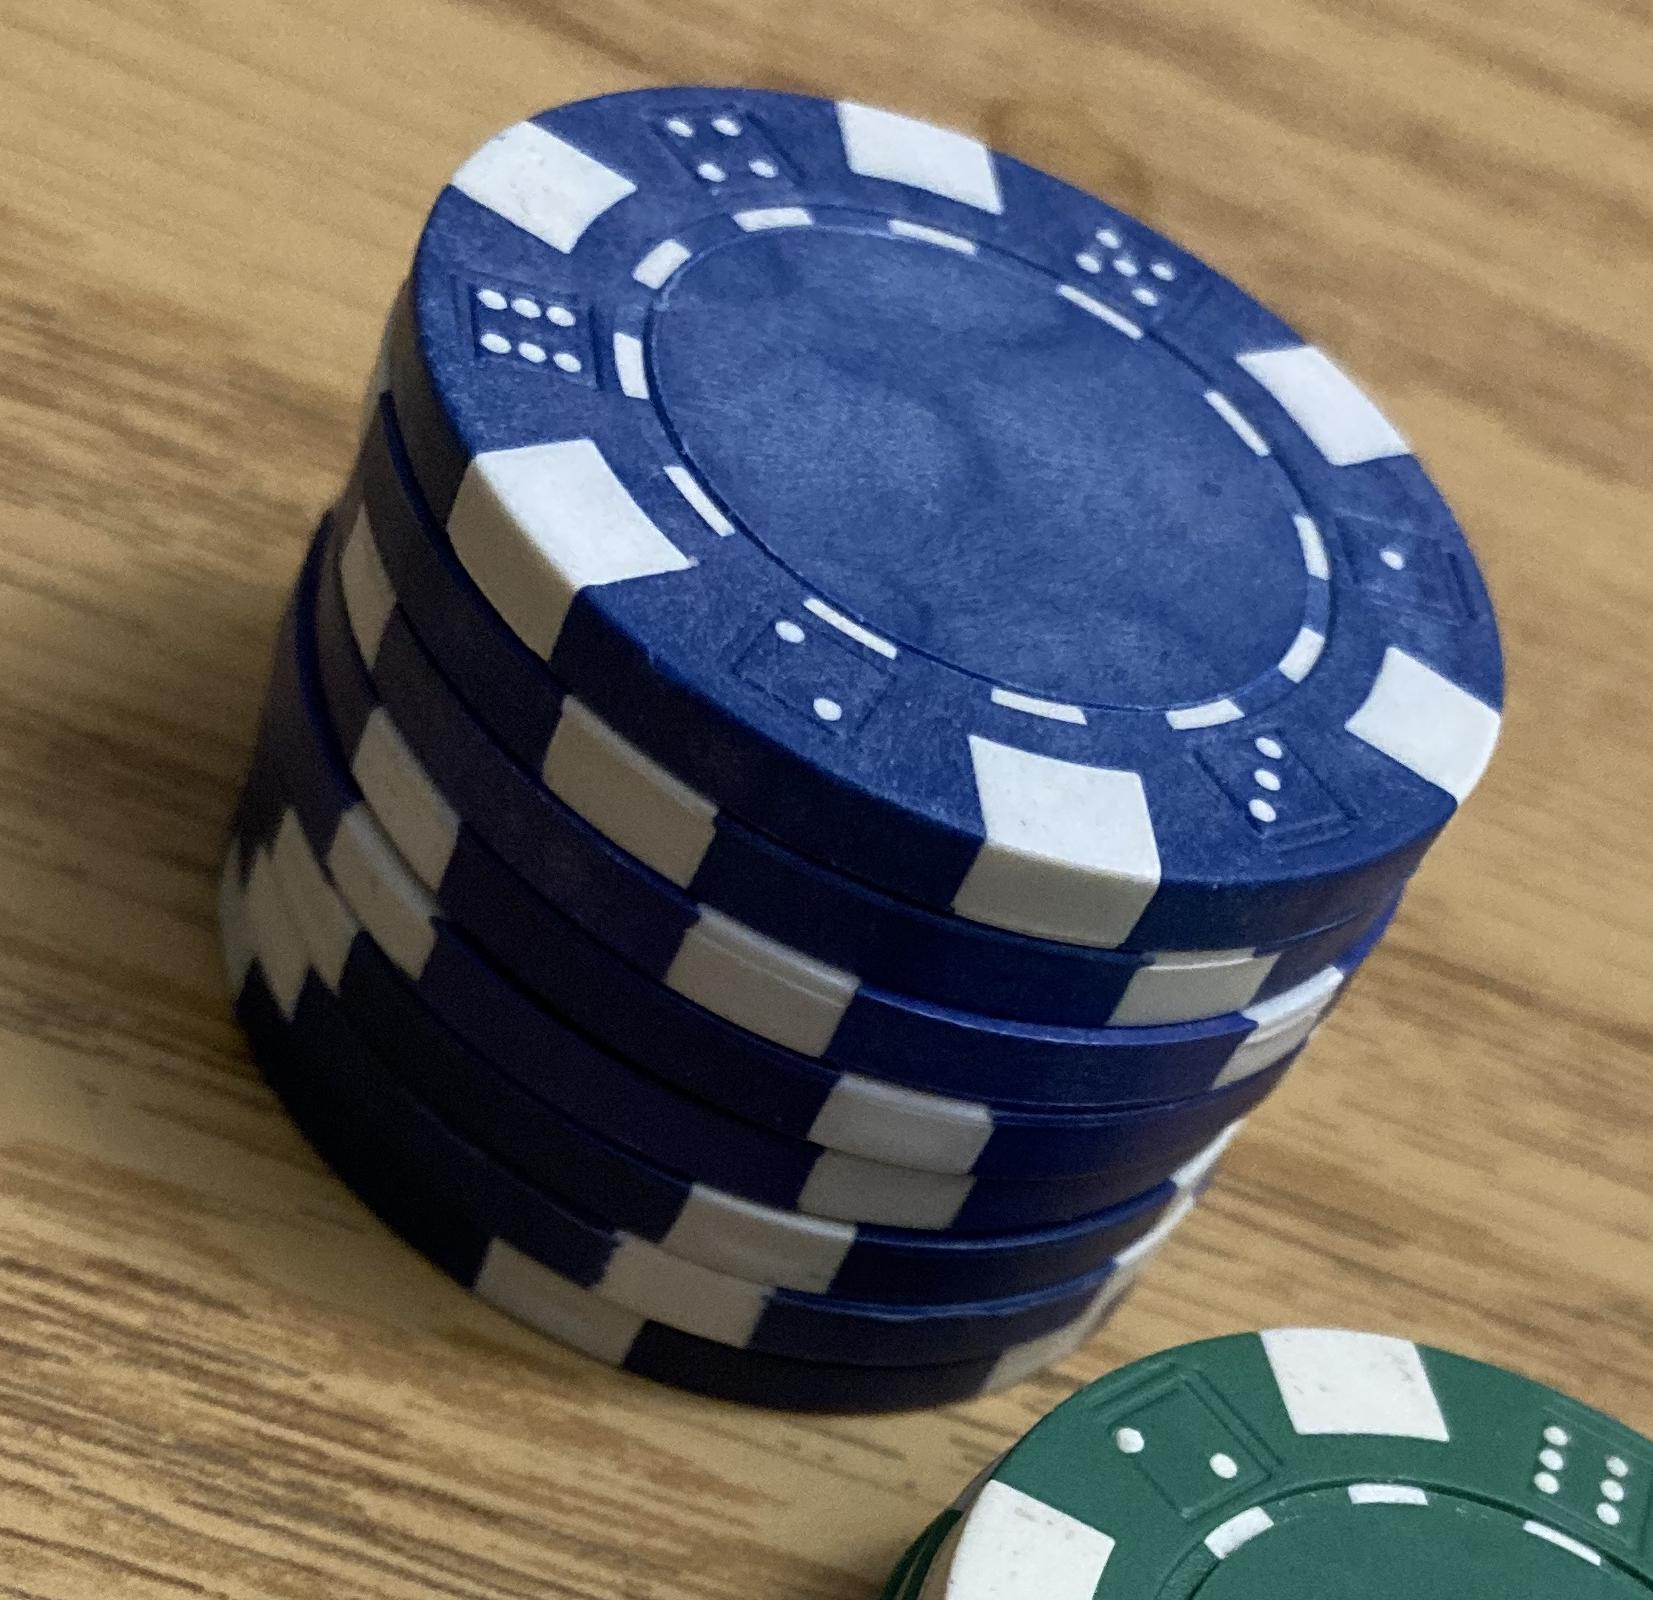Chip: (1, 1, 1653, 1600)
